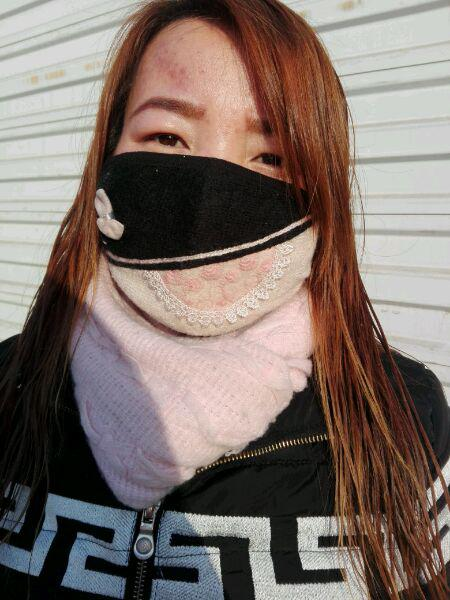OK: (105, 97, 322, 314)
